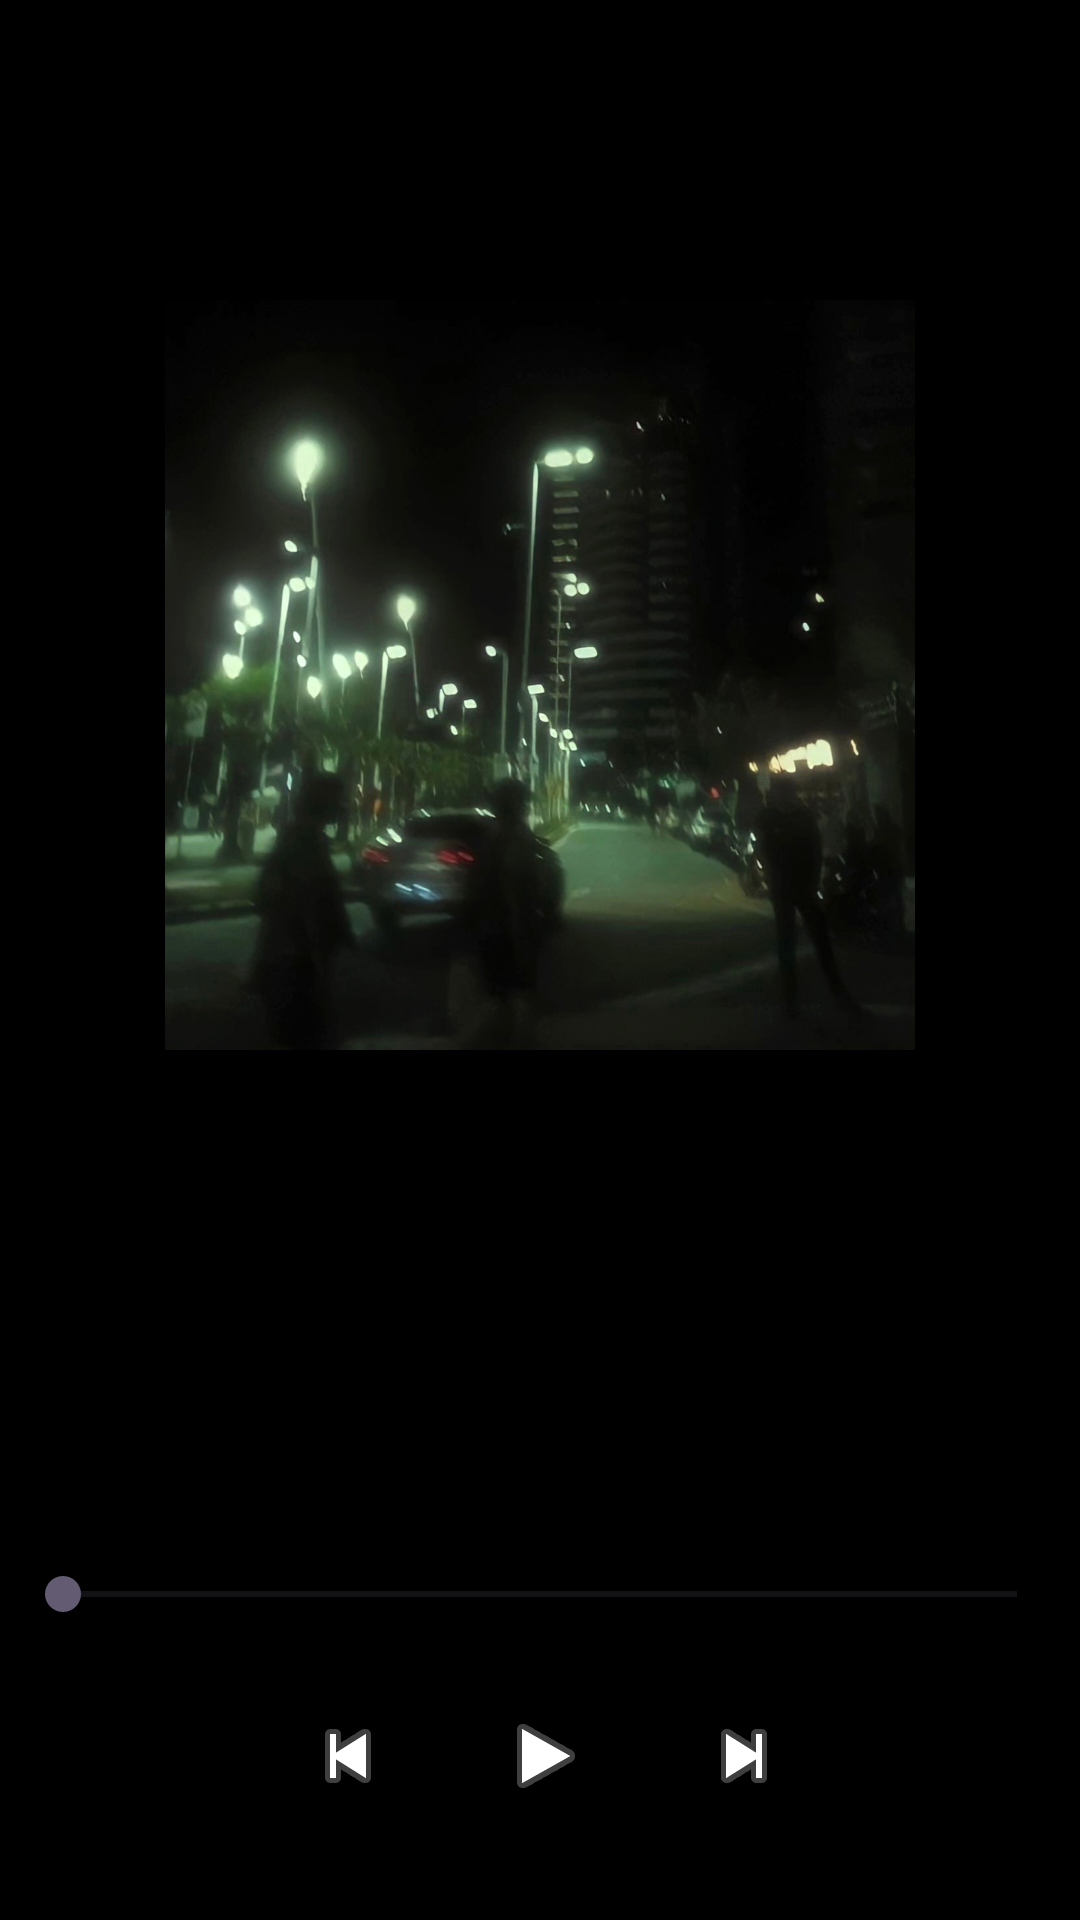

Icon bounding boxes for this 1080*1920 phone screenshot, format detection(x1, y1, x2, y2):
next: detection(721, 1729, 767, 1783)
play: detection(517, 1724, 575, 1788)
previous: detection(325, 1729, 371, 1783)
